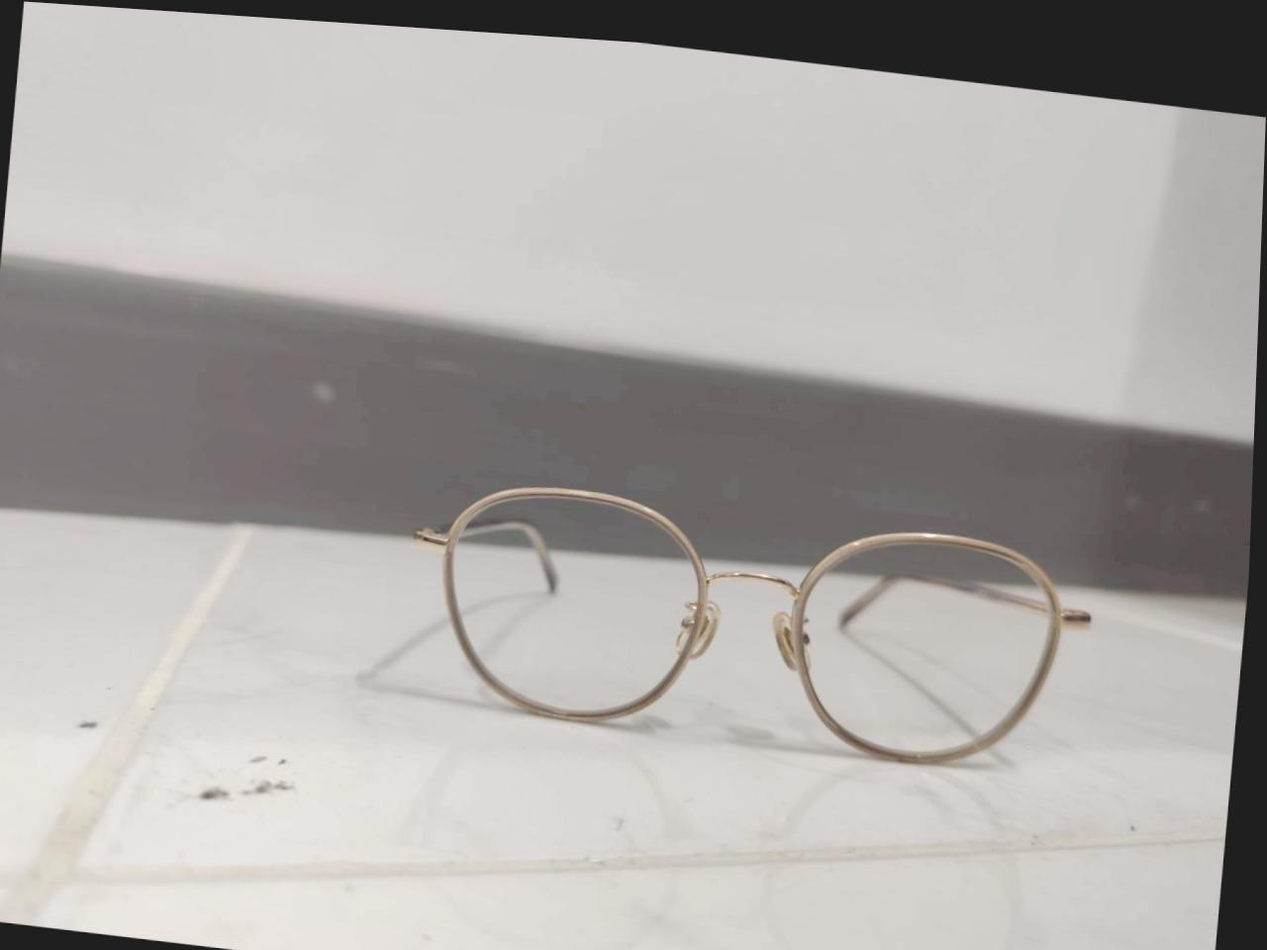glasses: (374, 453, 1122, 822)
